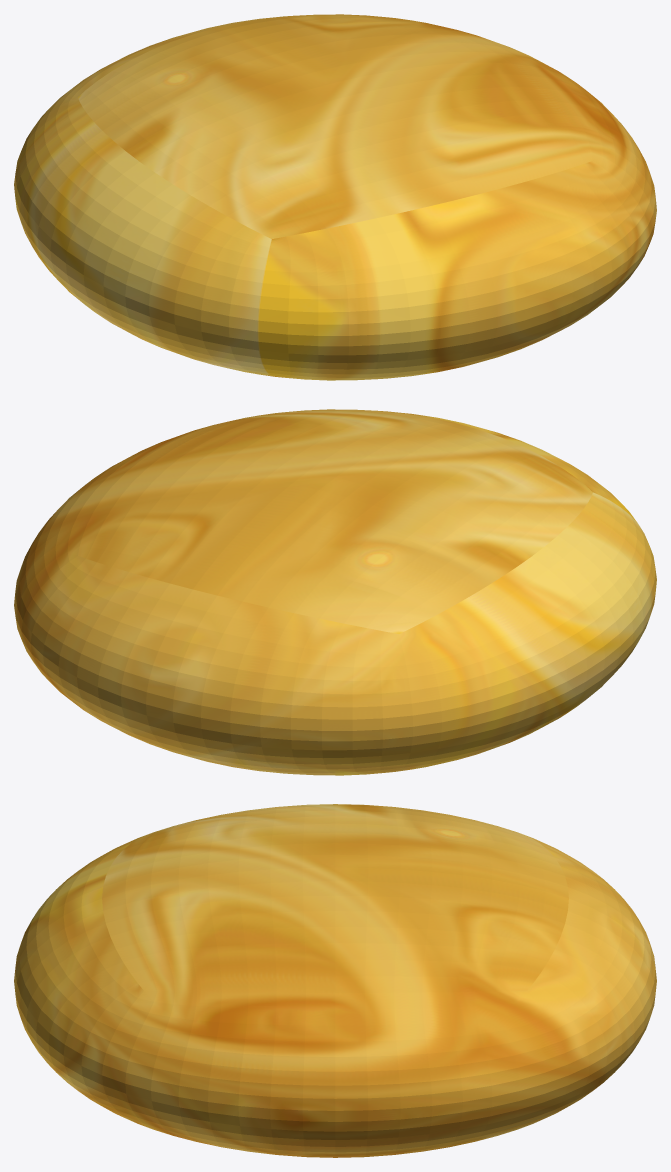
File: jushi.obj
3 renders of one model, top to bottom at view 1: azimuth 30°, elevation 25°; view 2: azimuth 150°, elevation 25°; view 3: azimuth 270°, elevation 25°, orthographic.
Visible parts, largest first — view 1: Cube; view 2: Cube; view 3: Cube.
Boxes of the visible parts, x1,y1,x2,y2 form: Cube: (14, 14, 656, 380); Cube: (14, 409, 656, 775); Cube: (14, 804, 656, 1157).
Size of the model in its own units: 1.83 by 0.7459 by 1.92.
1 material, 1 textured.
